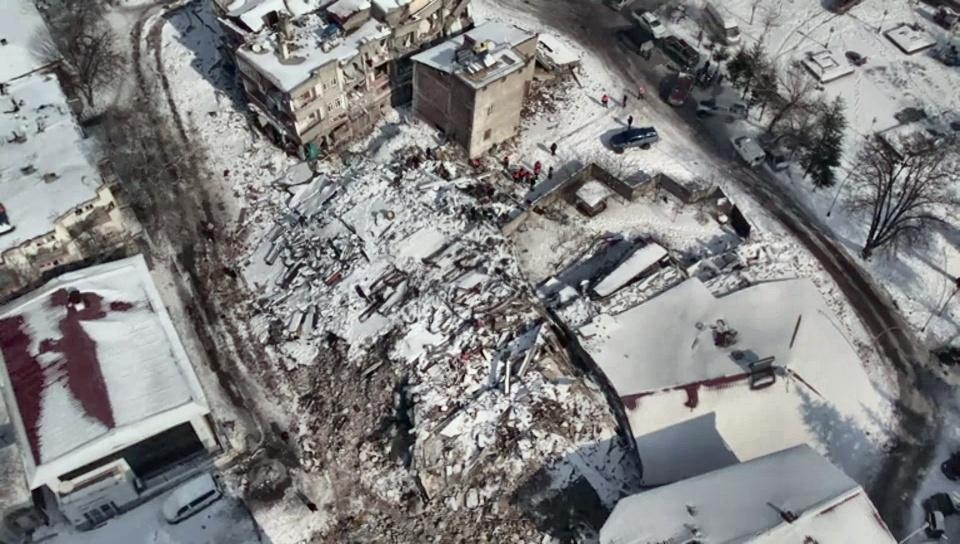kapali: (128, 171, 433, 543)
